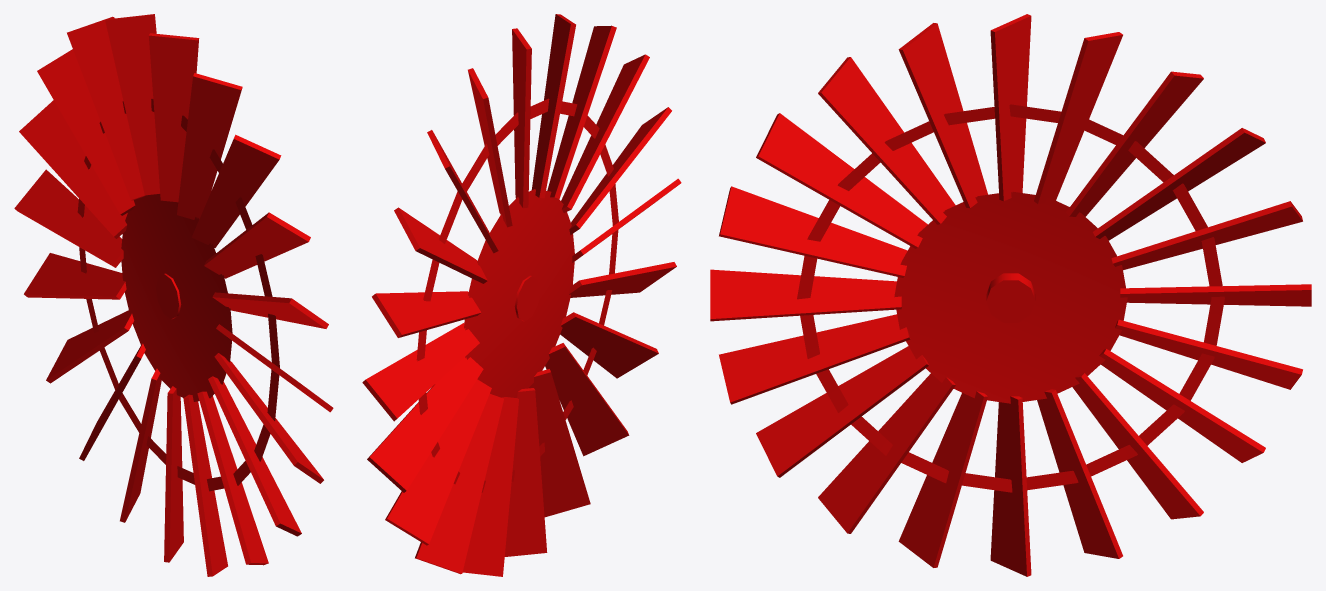
File: Windmill_01_Wheel_Lod0.fbx
3 views of the same model, side by side, from view 1: azimuth 30°, elevation 25°; view 2: azimuth 150°, elevation 25°; view 3: azimuth 270°, elevation 25° (orthographic). The views are drawn at different scales.
Parts seen in each view (by area): view 1: Windmill_01_Wheel_Lod0; view 2: Windmill_01_Wheel_Lod0; view 3: Windmill_01_Wheel_Lod0.
Boxes of the visible parts, x1,y1,x2,y2 form: Windmill_01_Wheel_Lod0: (14, 14, 333, 576); Windmill_01_Wheel_Lod0: (362, 14, 681, 576); Windmill_01_Wheel_Lod0: (710, 14, 1311, 576).
Size of the model in its own units: 20.35 by 285 by 285.
